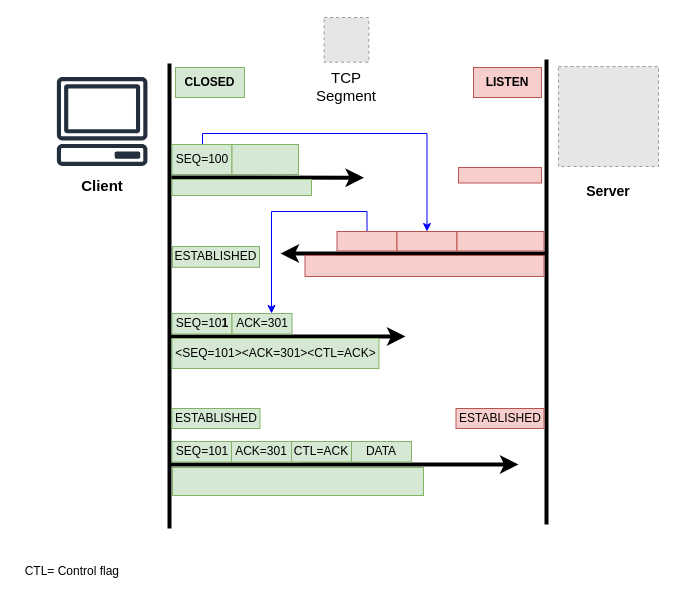
The diagram is 676 pixels wide and 604 high, and some of its shapes have lost their labels. Grey dashed boxes stand in for pictures. The shapes that lost their labels are listed below. From the top down, each one's centre as x and y in pixels, then its label:
point (264, 159): CTL*=SYN
point (500, 174): SYN-Received
point (241, 187): <SEC=100><CTL=SYN>
point (366, 240): SEQ=300
point (426, 240): ACK=101
point (500, 240): CTL=SYN,ACK
point (424, 265): <SEC=300><ACK=101><CTL=SYN,ACK>
point (298, 481): <SEQ=101><ACK=301><CTL=ACK><DATA>
